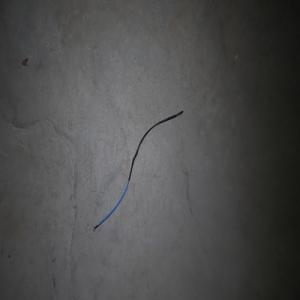Wire: (92, 109, 183, 232)
